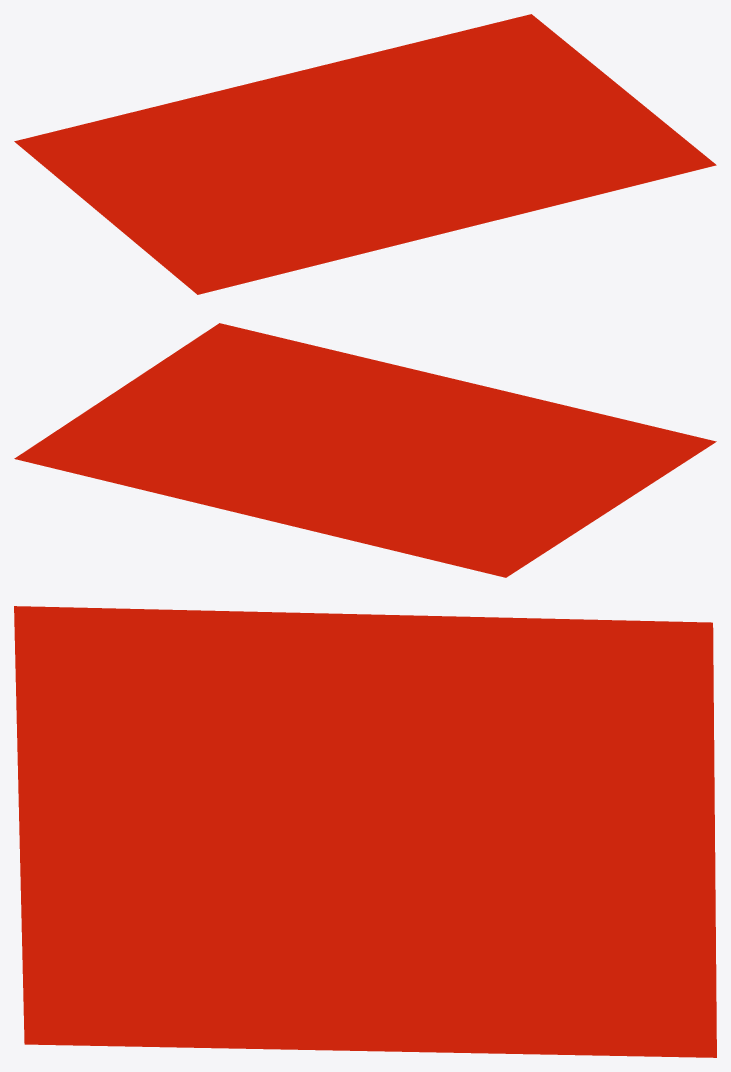
The model's file is Blood1.fbx.
3 renders of one model, top to bottom at view 1: azimuth 30°, elevation 25°; view 2: azimuth 150°, elevation 25°; view 3: azimuth 270°, elevation 25°, orthographic. The views are drawn at different scales.
Visible parts, largest first — view 1: Blood1; view 2: Blood1; view 3: Blood1.
Boxes of the visible parts, bbox=[...] form: Blood1: bbox=[14, 14, 716, 294]; Blood1: bbox=[14, 323, 716, 577]; Blood1: bbox=[14, 606, 716, 1057].
Bounding box in the file's own units: 106 × 0 × 69.56.
